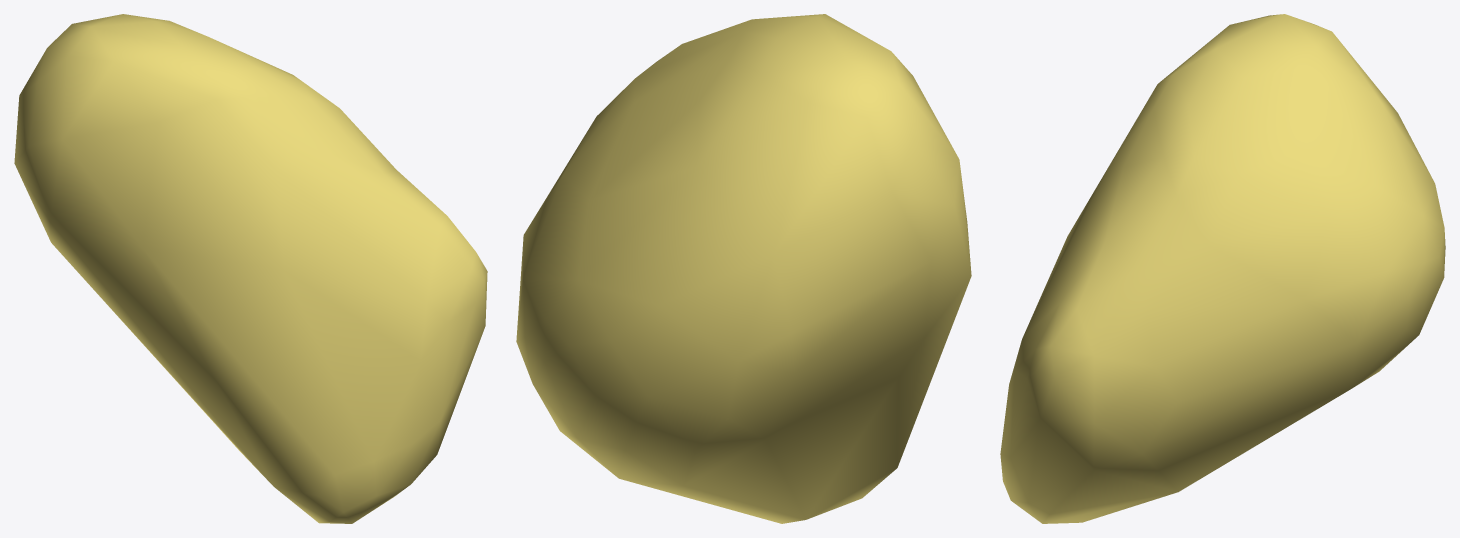
Rendered from medial-geniculate-body-l.glb.
The picture shows the model from 3 angles, left to right: view 1: azimuth 30°, elevation 25°; view 2: azimuth 150°, elevation 25°; view 3: azimuth 270°, elevation 25°; orthographic projection. The views are drawn at different scales.
Parts seen in each view (by area): view 1: Medial geniculate body.l; view 2: Medial geniculate body.l; view 3: Medial geniculate body.l.
Part boxes in pixels (box(x1,y1,x2,y2)): Medial geniculate body.l: box(14, 14, 487, 523); Medial geniculate body.l: box(516, 14, 971, 523); Medial geniculate body.l: box(1000, 14, 1445, 523).
Size of the model in its own units: 0.00633 by 0.00744 by 0.00686.
